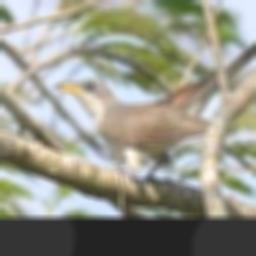Cuckoo: (51, 21, 256, 181)
